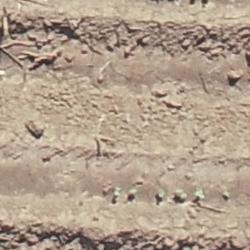cotton: (114, 187, 121, 195), (128, 188, 137, 194), (196, 190, 203, 197), (158, 191, 164, 196)
